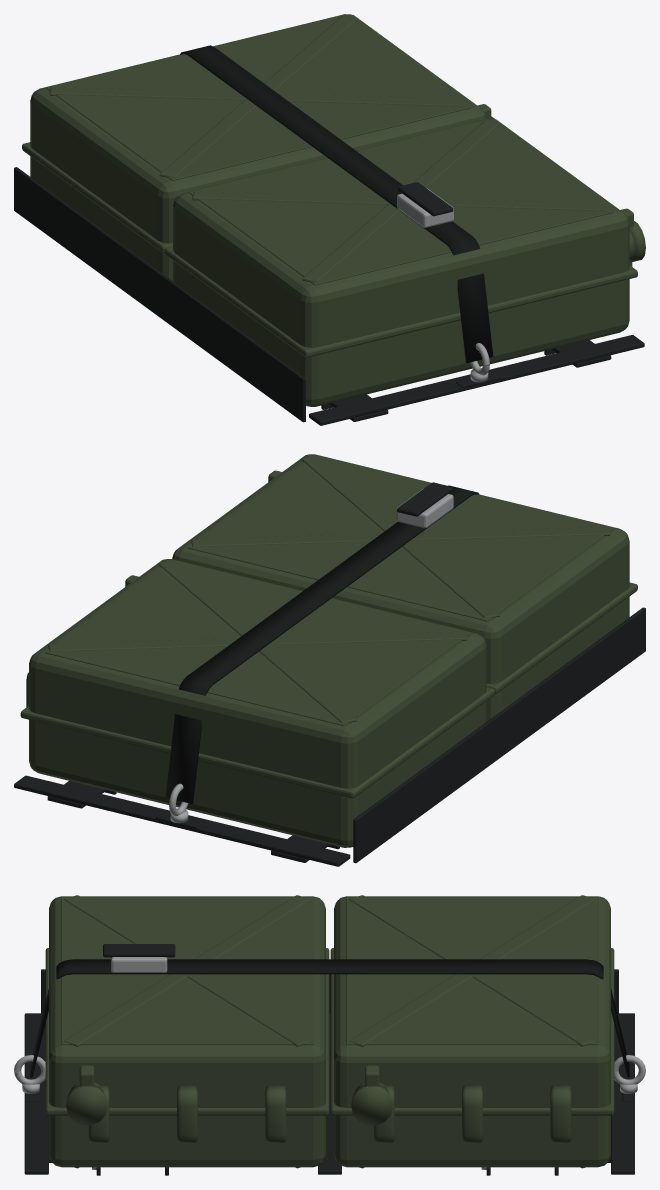
Rendered from arbAcc_jerry.glb.
3 renders of one model, top to bottom at view 1: azimuth 30°, elevation 25°; view 2: azimuth 150°, elevation 25°; view 3: azimuth 270°, elevation 25°, orthographic.
Parts seen in each view (by area): view 1: can1, can0Rim1, can1Rim1, can0, fence, strap, cross-530, can1Flange, can0X1-1, can1X1-1, can0X11, can1X11 (+3 smaller); view 2: can0, can0Rim1, can1Rim1, can1, fence, strap, cross-1260, can0Flange, can0X11, can1X11, can1X1-1, can0X1-1 (+3 smaller); view 3: can0, can1, can0Rim1, can1Rim1, strap, can0X11, can1X1-1, can0X1-1, cross-530, can0Flange, can1Flange, cross-1260 (+15 smaller).
Part boxes in pixels (box(x1,y1,x2,y2)): can1: box(173, 118, 629, 406); can0Rim1: box(46, 14, 471, 180); can1Rim1: box(188, 119, 613, 285); can0: box(30, 14, 486, 280); fence: box(14, 167, 305, 422); strap: box(180, 45, 493, 362); cross-530: box(309, 335, 644, 425); can1Flange: box(165, 246, 637, 357); can0X1-1: box(49, 86, 467, 106); can1X1-1: box(192, 191, 610, 211); can0X11: box(159, 16, 357, 177); can1X11: box(302, 120, 500, 282); can0: box(29, 559, 486, 847); can0Rim1: box(44, 559, 470, 725); can1Rim1: box(187, 454, 613, 621); can1: box(172, 454, 629, 721); fence: box(353, 607, 645, 863); strap: box(165, 485, 479, 803); cross-1260: box(14, 775, 350, 866); can0Flange: box(20, 687, 494, 798); can0X11: box(48, 631, 467, 651); can1X11: box(191, 527, 610, 546); can1X1-1: box(301, 456, 499, 618); can0X1-1: box(158, 560, 356, 722); can0: box(334, 896, 610, 1167); can1: box(49, 896, 325, 1167); can0Rim1: box(346, 898, 598, 1044); can1Rim1: box(61, 898, 313, 1044); strap: box(30, 959, 629, 1077); can0X11: box(349, 895, 595, 1046); can1X1-1: box(64, 895, 310, 1046); can0X1-1: box(349, 895, 595, 1046); cross-530: box(24, 1013, 48, 1174); can0Flange: box(330, 948, 614, 1115); can1Flange: box(45, 948, 329, 1115); cross-1260: box(611, 1013, 634, 1174).
Size of the model in its own units: 0.5105 by 0.23 by 0.7869.
